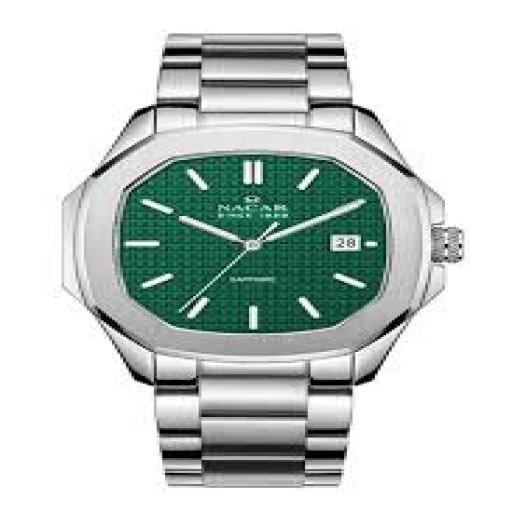KolSaati: (42, 12, 493, 500)
